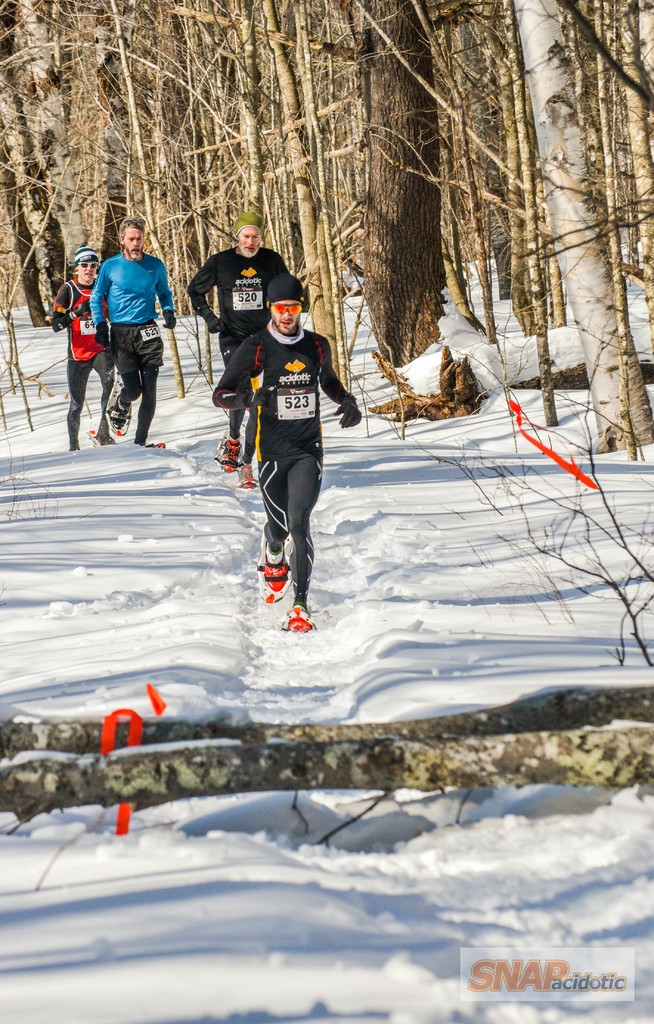Tree: (0, 0, 653, 449)
